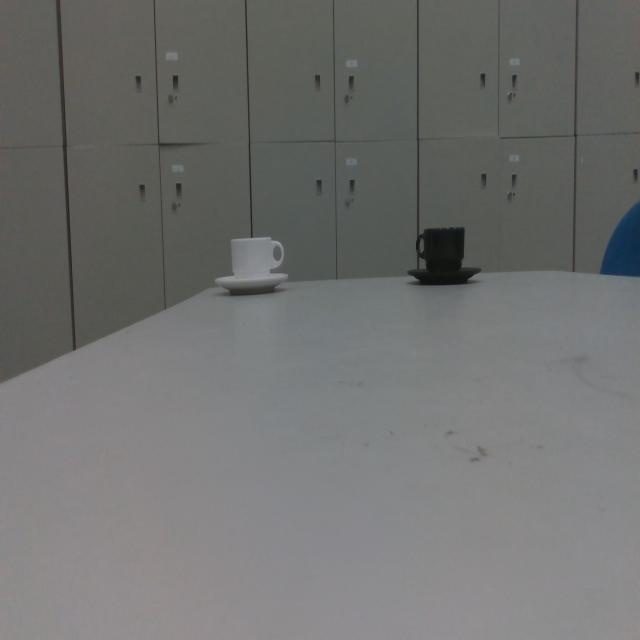black: (404, 222, 482, 294)
white: (215, 232, 289, 294)
